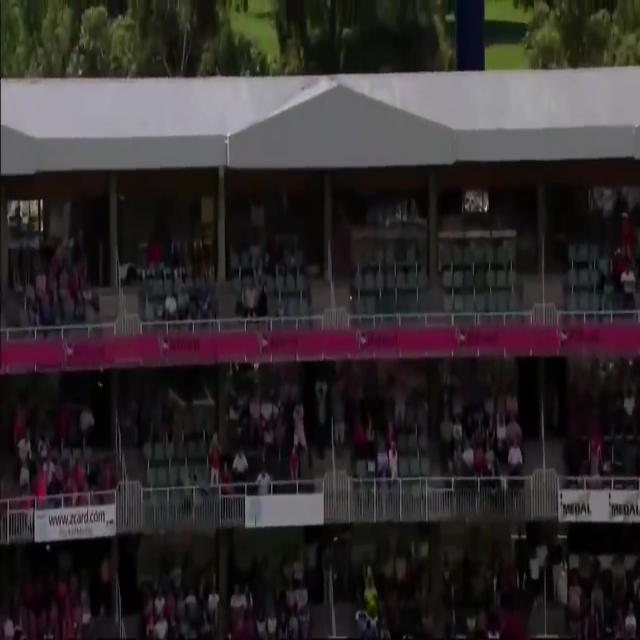Ball: (221, 0, 564, 73)
